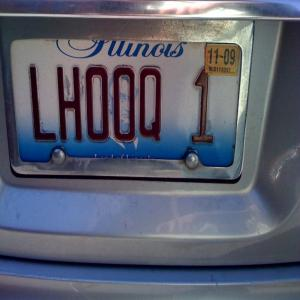Vehicle-registration-plate: (12, 38, 245, 163)
